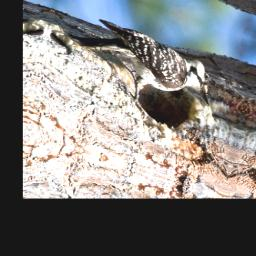Woodpecker: (55, 3, 226, 126)
